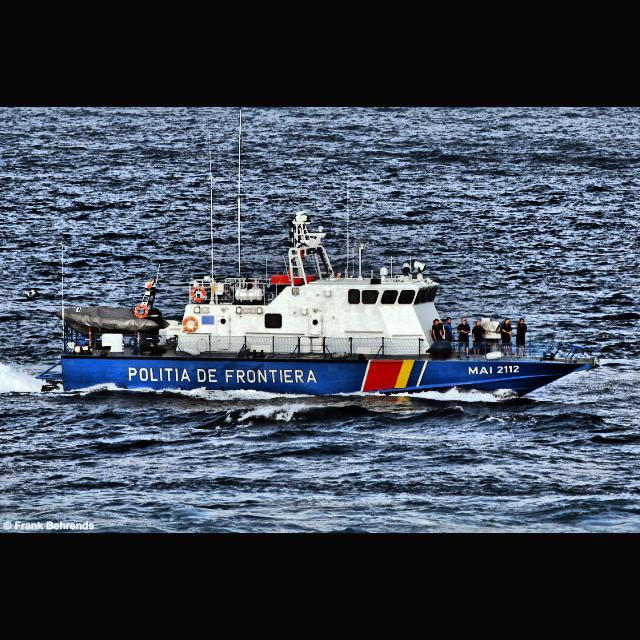patrol_vessel: (35, 208, 603, 404)
